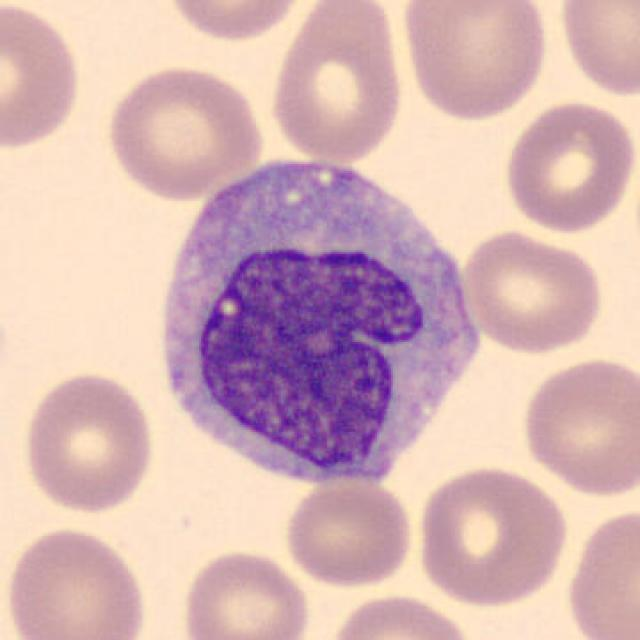Monocyte: (146, 141, 485, 503)
RBC: (265, 0, 409, 167), (102, 60, 268, 203), (412, 460, 570, 608), (18, 366, 158, 516), (499, 95, 636, 236), (396, 0, 552, 123), (457, 228, 606, 356), (1, 523, 151, 640), (518, 353, 638, 499), (281, 474, 418, 591), (0, 0, 85, 153), (178, 545, 314, 640), (562, 502, 638, 640), (553, 0, 640, 100), (326, 589, 476, 640), (158, 0, 311, 44)
